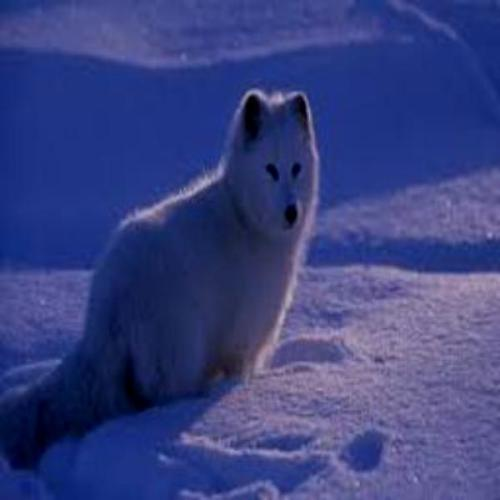arctic_fox-endangered: (0, 91, 322, 468)
